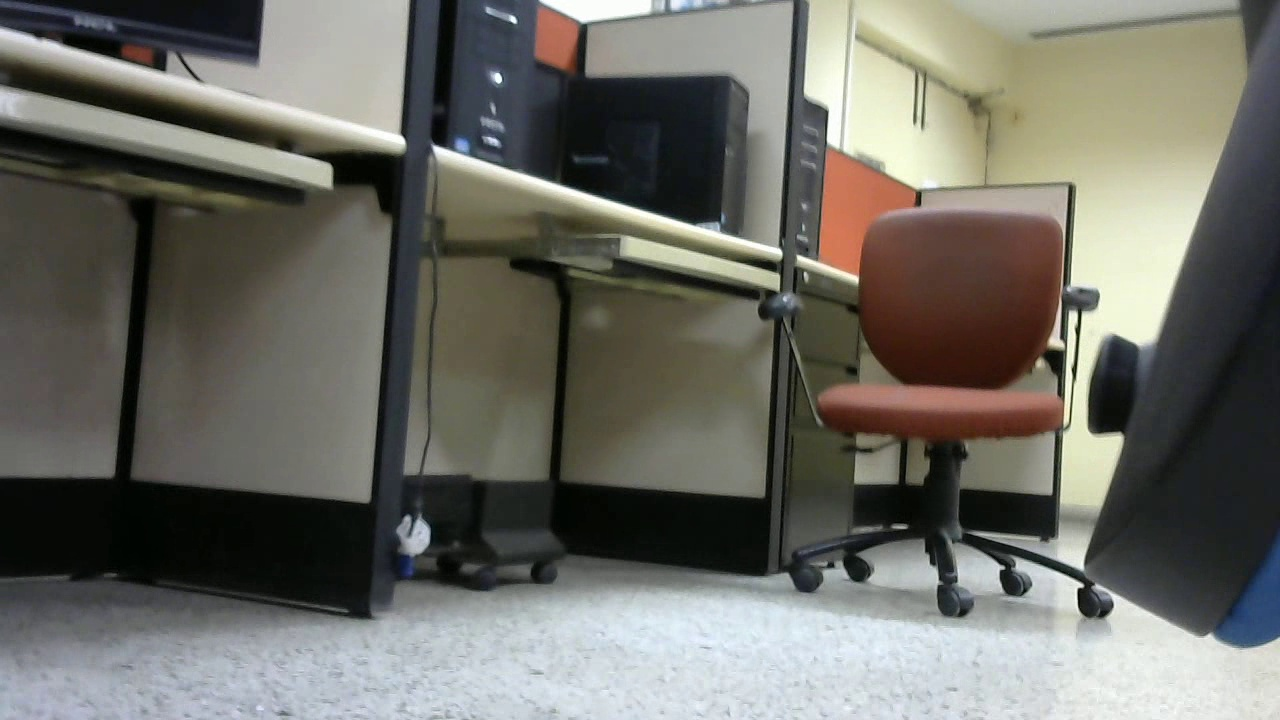chair: (515, 2, 922, 662), (1, 205, 197, 501)
